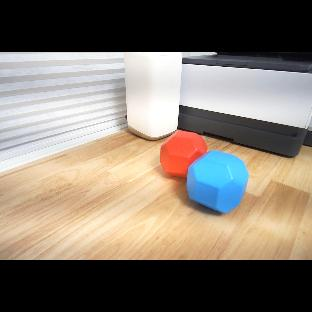V5_BLUE: (186, 150, 249, 213), (189, 152, 250, 213)
V5_RED: (160, 130, 207, 178), (160, 130, 198, 169)
pieces: (159, 127, 254, 217)
